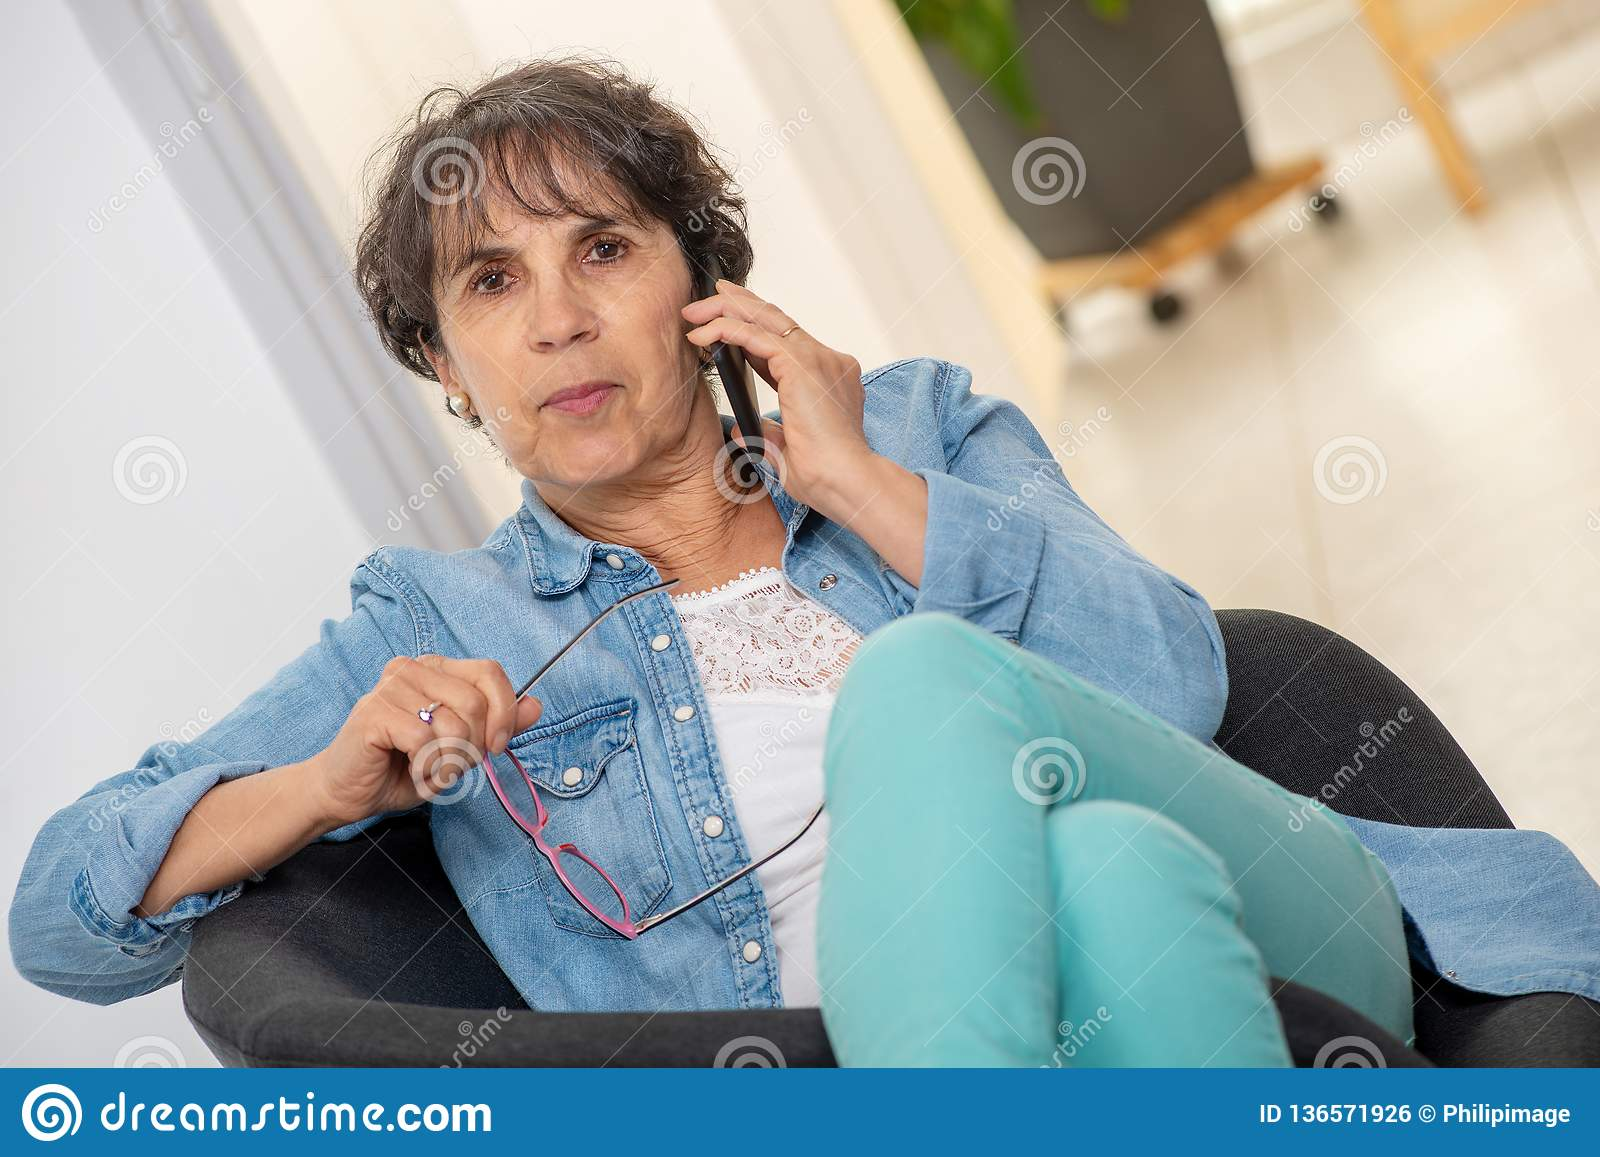phone: (692, 231, 776, 483)
talk: (439, 208, 882, 505)
